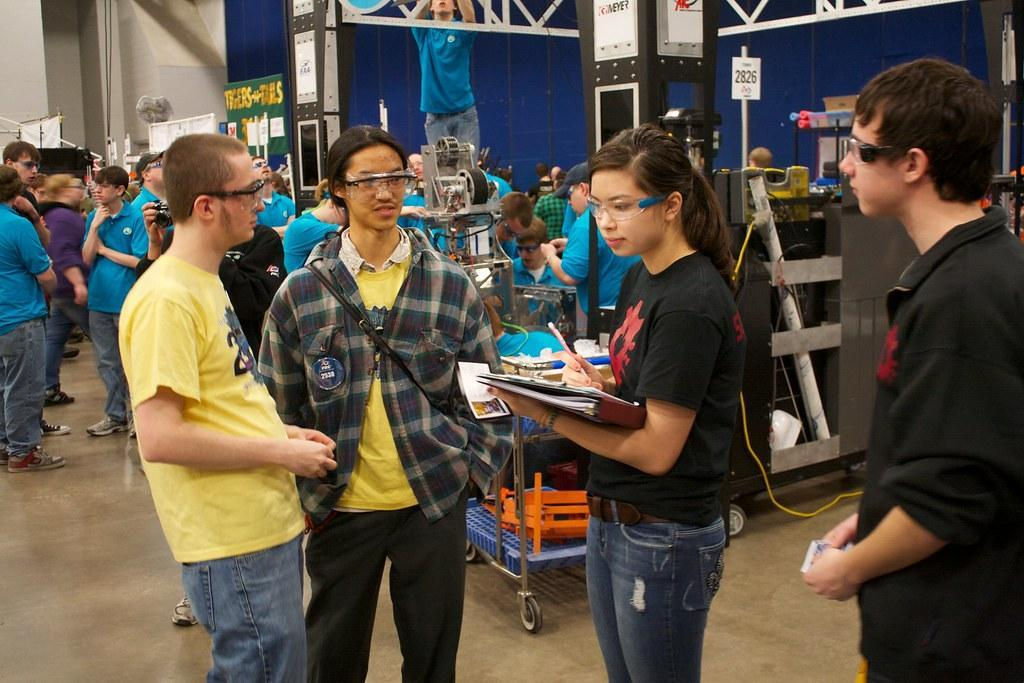robot: (382, 130, 580, 393)
